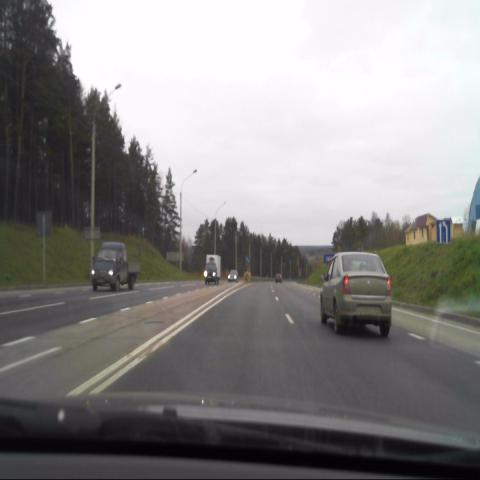5_15_5: (438, 219, 451, 242)
